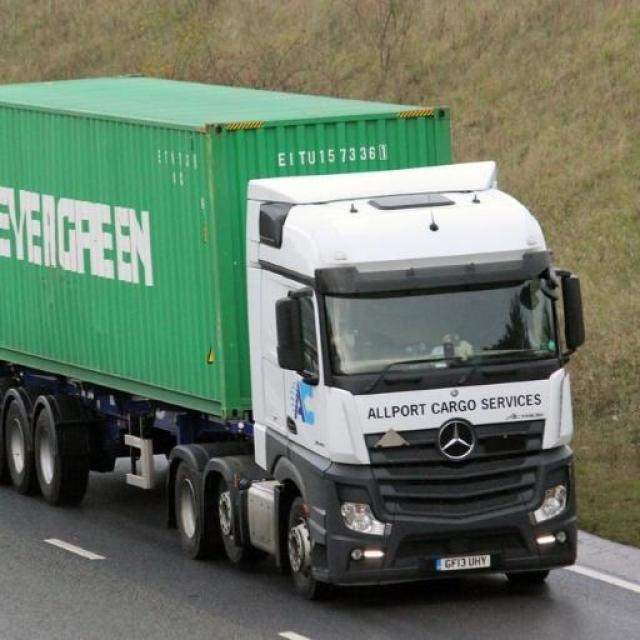container_number: (278, 140, 398, 170)
